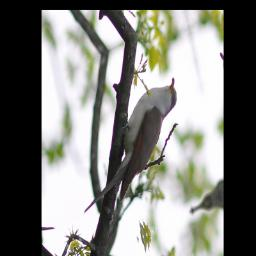Cuckoo: (65, 75, 193, 223)
